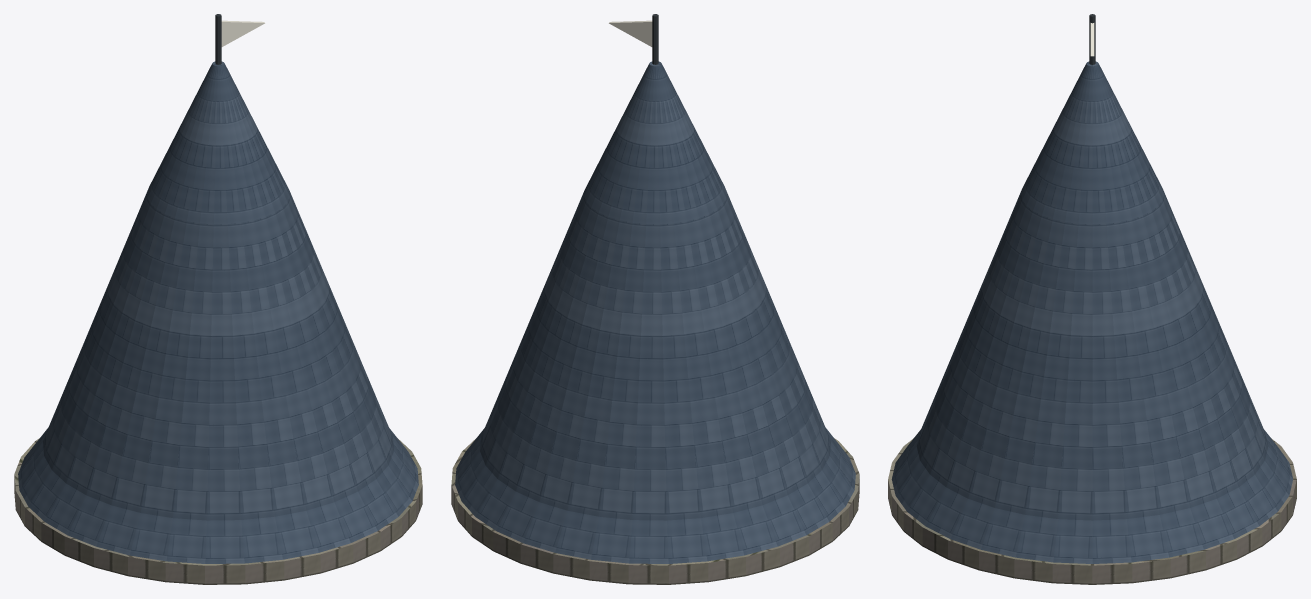
Rendered from Furn_Roof_Cone_Tall.fbx.
The picture shows the model from 3 angles, left to right: view 1: azimuth 30°, elevation 25°; view 2: azimuth 150°, elevation 25°; view 3: azimuth 270°, elevation 25°; orthographic projection.
Visible parts, largest first — view 1: Furn_Roof_Cone_Tall_Mesh; view 2: Furn_Roof_Cone_Tall_Mesh; view 3: Furn_Roof_Cone_Tall_Mesh.
Part boxes in pixels (left/top/right/bottom): Furn_Roof_Cone_Tall_Mesh: left=14, top=14, right=422, bottom=584; Furn_Roof_Cone_Tall_Mesh: left=451, top=14, right=859, bottom=584; Furn_Roof_Cone_Tall_Mesh: left=888, top=14, right=1296, bottom=584.
Bounding box in the file's own units: 4.6 × 6 × 4.6.
